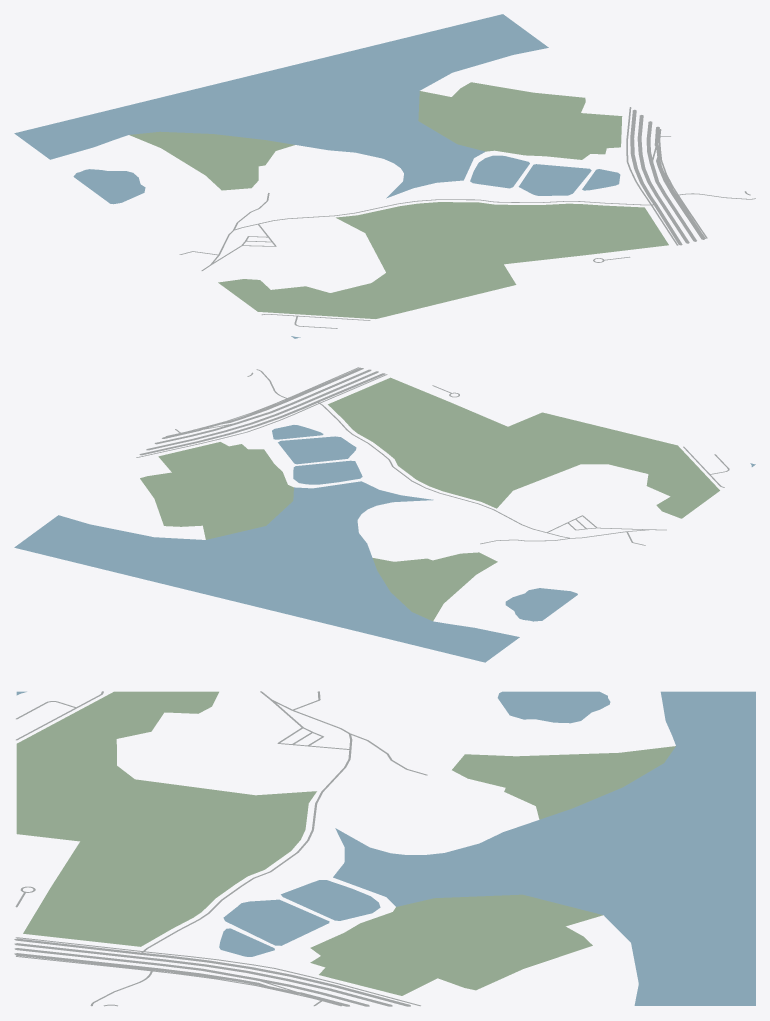
File: -12_7-known-coarse.glb
3 views of the same model, one above another, from view 1: azimuth 30°, elevation 25°; view 2: azimuth 150°, elevation 25°; view 3: azimuth 270°, elevation 25° (orthographic). The views are drawn at different scales.
Size of the model in its own units: 1004 by 0.1 by 998.
